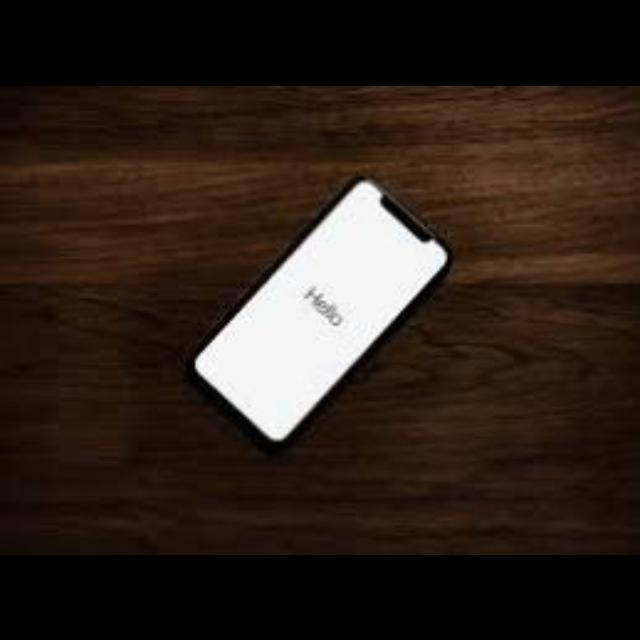Phone: (173, 172, 459, 442)
